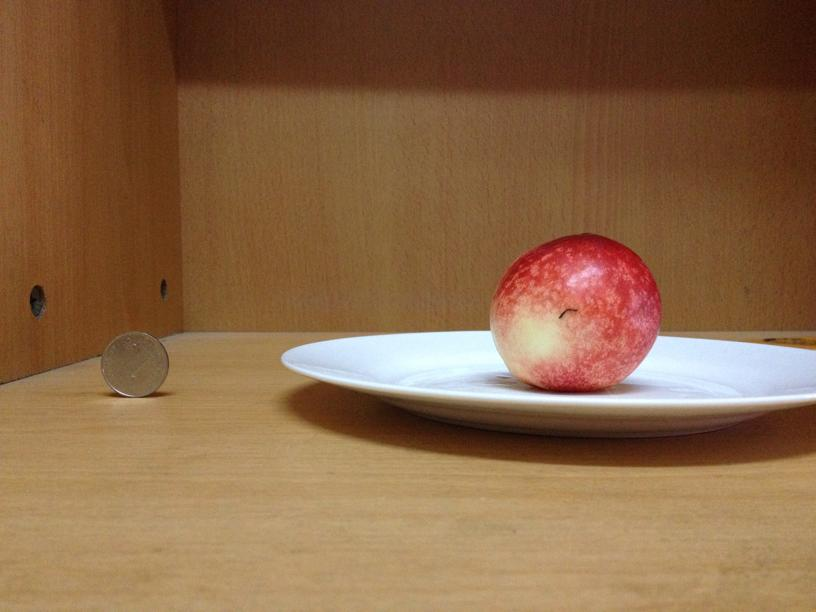coin: (99, 334, 168, 397)
peach: (495, 236, 661, 391)
